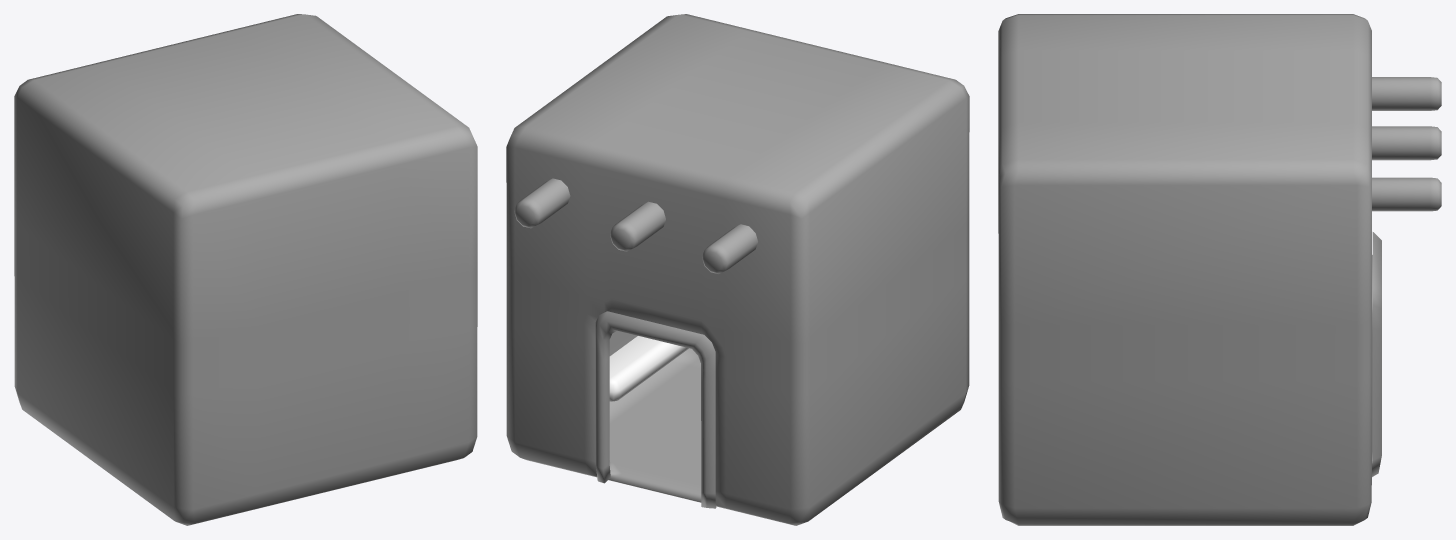
File: HouseSand.fbx
3 views of the same model, side by side, from view 1: azimuth 30°, elevation 25°; view 2: azimuth 150°, elevation 25°; view 3: azimuth 270°, elevation 25° (orthographic). The views are drawn at different scales.
Parts seen in each view (by area): view 1: HouseNormal2; view 2: HouseNormal2, polySurface4, polySurface3, pCylinder3, pCylinder1, pCylinder2; view 3: HouseNormal2, pCylinder3, pCylinder1, polySurface4, pCylinder2.
Part boxes in pixels (x1,y1,x2,y2): HouseNormal2: [14, 14, 477, 525]; HouseNormal2: [506, 14, 969, 525]; polySurface4: [595, 311, 716, 508]; polySurface3: [609, 336, 688, 401]; pCylinder3: [514, 178, 570, 228]; pCylinder1: [610, 201, 665, 251]; pCylinder2: [702, 224, 757, 273]; HouseNormal2: [998, 14, 1371, 525]; pCylinder3: [1372, 177, 1441, 211]; pCylinder1: [1372, 126, 1441, 160]; polySurface4: [1372, 232, 1381, 476]; pCylinder2: [1372, 77, 1441, 110].
Size of the model in its own units: 2.14 by 2.27 by 2.49.
Materials: 4 (1 with a texture image).
